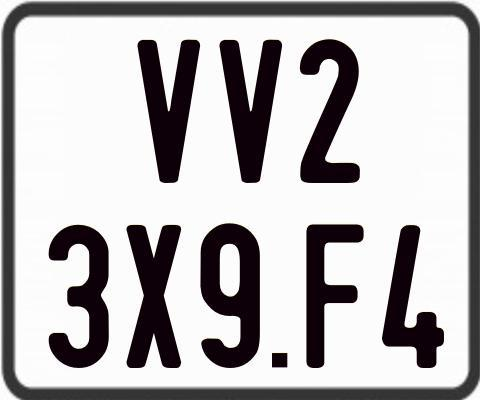2: (299, 36, 362, 183)
3: (49, 222, 110, 371)
4: (382, 223, 449, 366)
9: (198, 220, 260, 368)
F: (306, 223, 367, 367)
V: (218, 39, 285, 183), (138, 38, 203, 183)
X: (125, 225, 185, 374)
